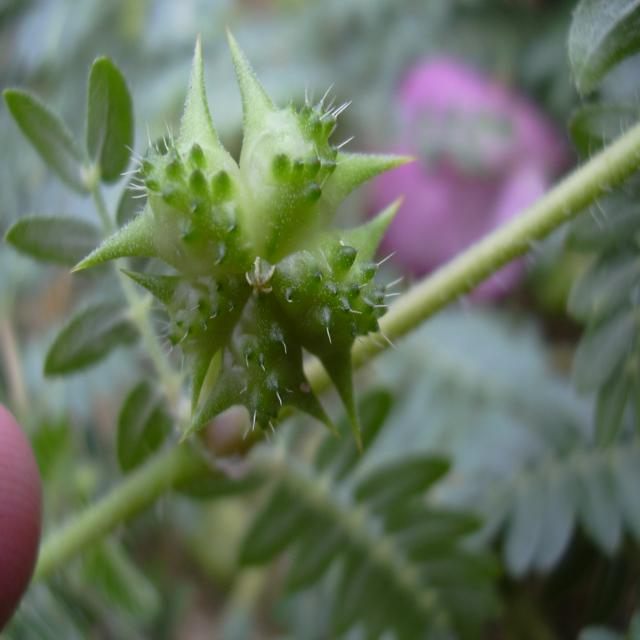Gokharu: (139, 233, 640, 640), (9, 75, 271, 505), (132, 63, 379, 419)
